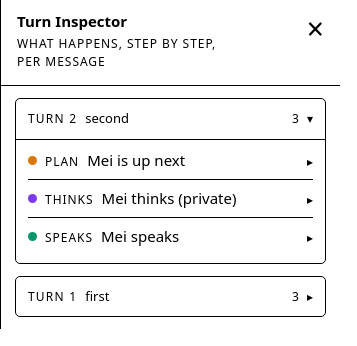
TurnInspectorPanel › keeps only the newest turn expanded; older turns collapse (accordion)
Expected: the text "Mei is up next" is shown once, [87,150,185,170]
Clicking a completed turn opens it and collapses the newer one.
Click the button "Turn 1 first 3 ▸": (49, 296) [16,276,325,316]
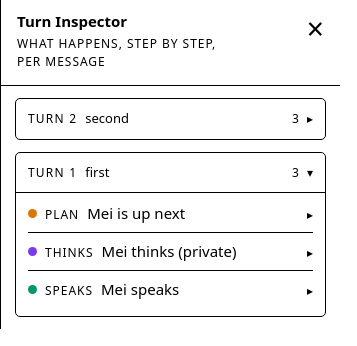
Now the button "Turn 1 first 3 ▾" is expanded, box [16,152,325,193]
Now the button "Turn 2 second 3 ▸" is collapsed, box [16,99,325,138]
